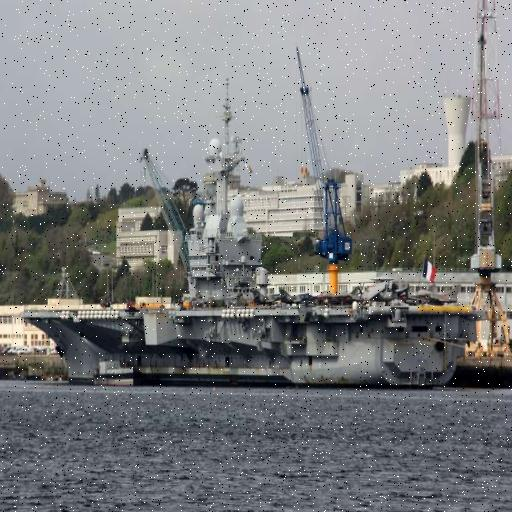Portanaves: (17, 108, 481, 394)
